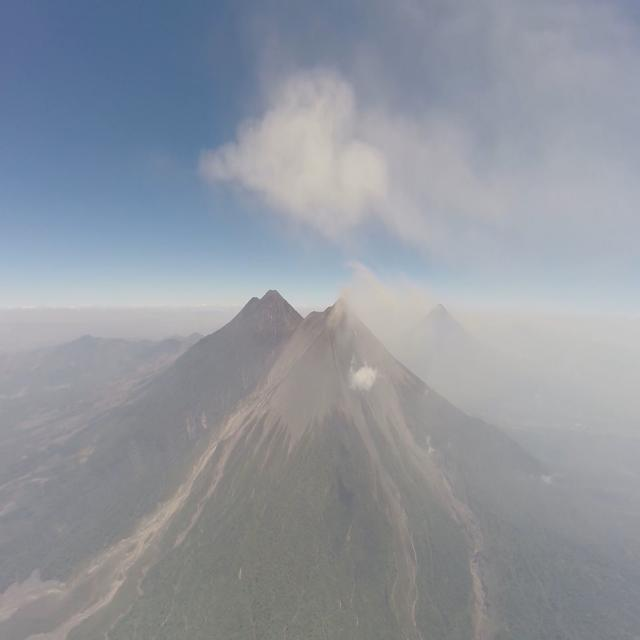Plume: (198, 46, 401, 240), (333, 262, 441, 388)
Summit: (323, 292, 361, 316)
